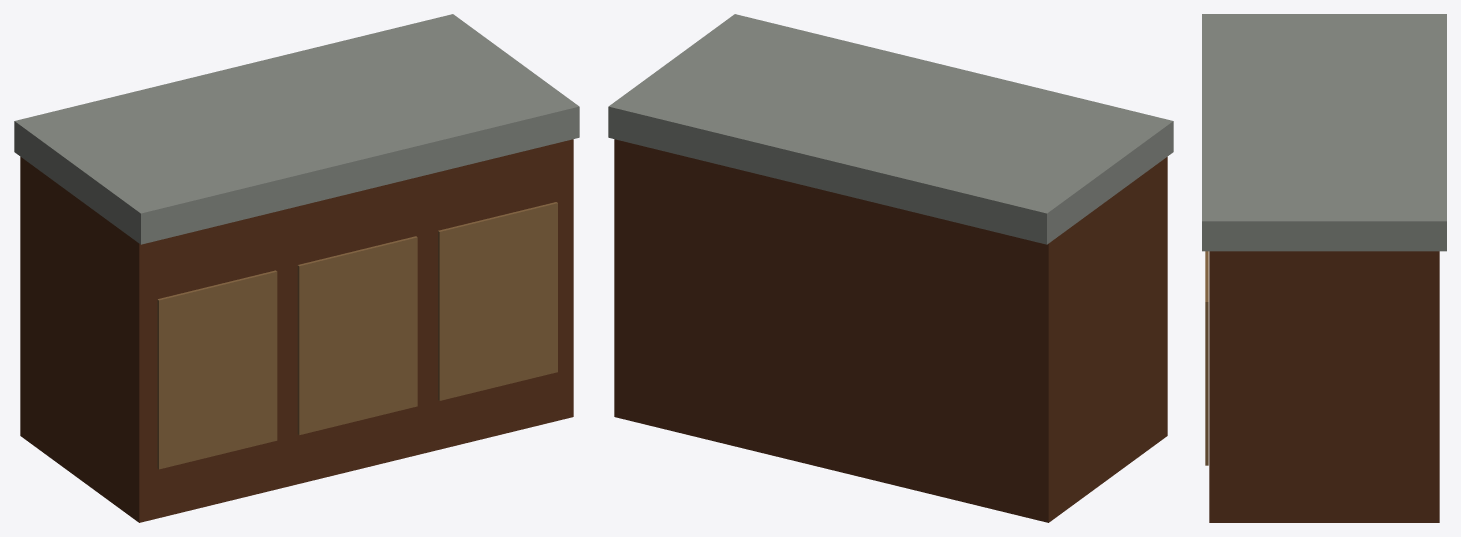
File: sales_desk.glb
The picture shows the model from 3 angles, left to right: view 1: azimuth 30°, elevation 25°; view 2: azimuth 150°, elevation 25°; view 3: azimuth 270°, elevation 25°; orthographic projection. The views are drawn at different scales.
Parts seen in each view (by area): view 1: body; view 2: body; view 3: body.
Boxes of the visible parts, box(x1,y1,x2,y2) form: body: box(14, 14, 579, 522); body: box(608, 14, 1173, 522); body: box(1202, 14, 1446, 522).
Size of the model in its own units: 1.4 by 0.9525 by 0.698.
1 material, 1 textured.
